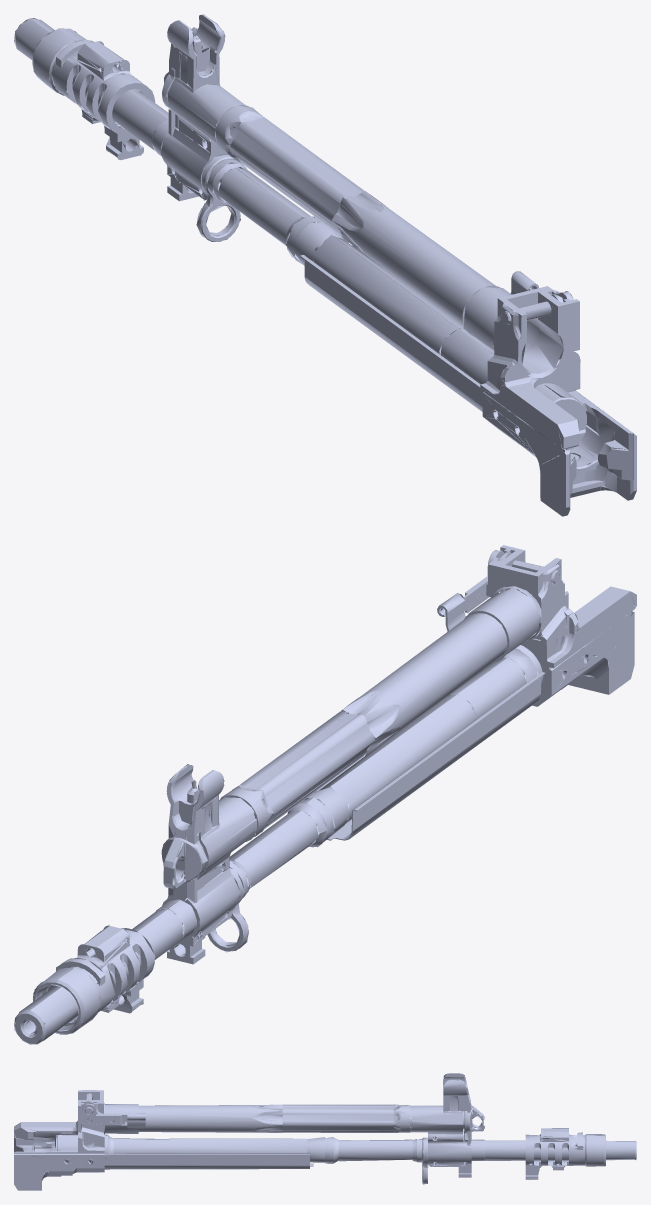
The model's file is barrel_415mm_standard.glb.
The picture shows the model from 3 angles, top to bottom: view 1: azimuth 30°, elevation 25°; view 2: azimuth 150°, elevation 25°; view 3: azimuth 270°, elevation 25°; orthographic projection. The views are drawn at different scales.
Visible parts, largest first — view 1: AK12_Barrel_Assembly; view 2: AK12_Barrel_Assembly; view 3: AK12_Barrel_Assembly.
Boxes of the visible parts, x1,y1,x2,y2 form: AK12_Barrel_Assembly: (14,14,636,516); AK12_Barrel_Assembly: (14,545,636,1044); AK12_Barrel_Assembly: (14,1073,636,1190).
Size of the model in its own units: 0.0362 by 0.0859 by 0.447.
